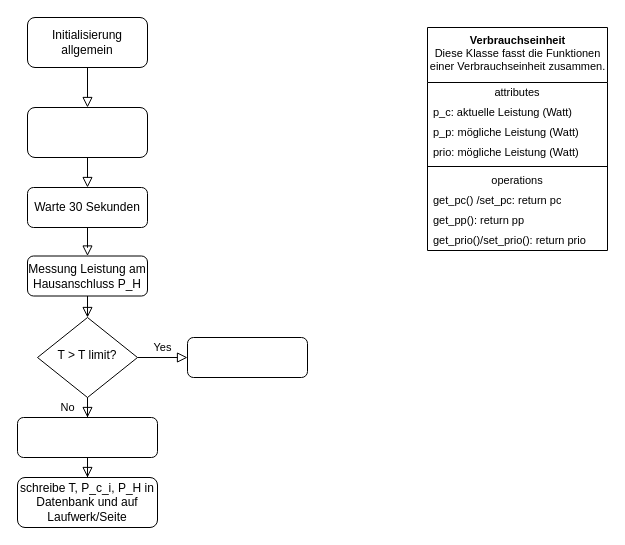
This 625x545 diagram has some shape labels left out. The shapes that lost their labels are listed below. From the top down, each one's centre as x and y in pixels, then its label:
At point 87,132: "Initialisierung: Leistung P_c_i= 0".
At point 247,357: "Schalte Heizstab aus".
At point 87,437: "P_c_i = P_c_i - P_H - P_puffer".
